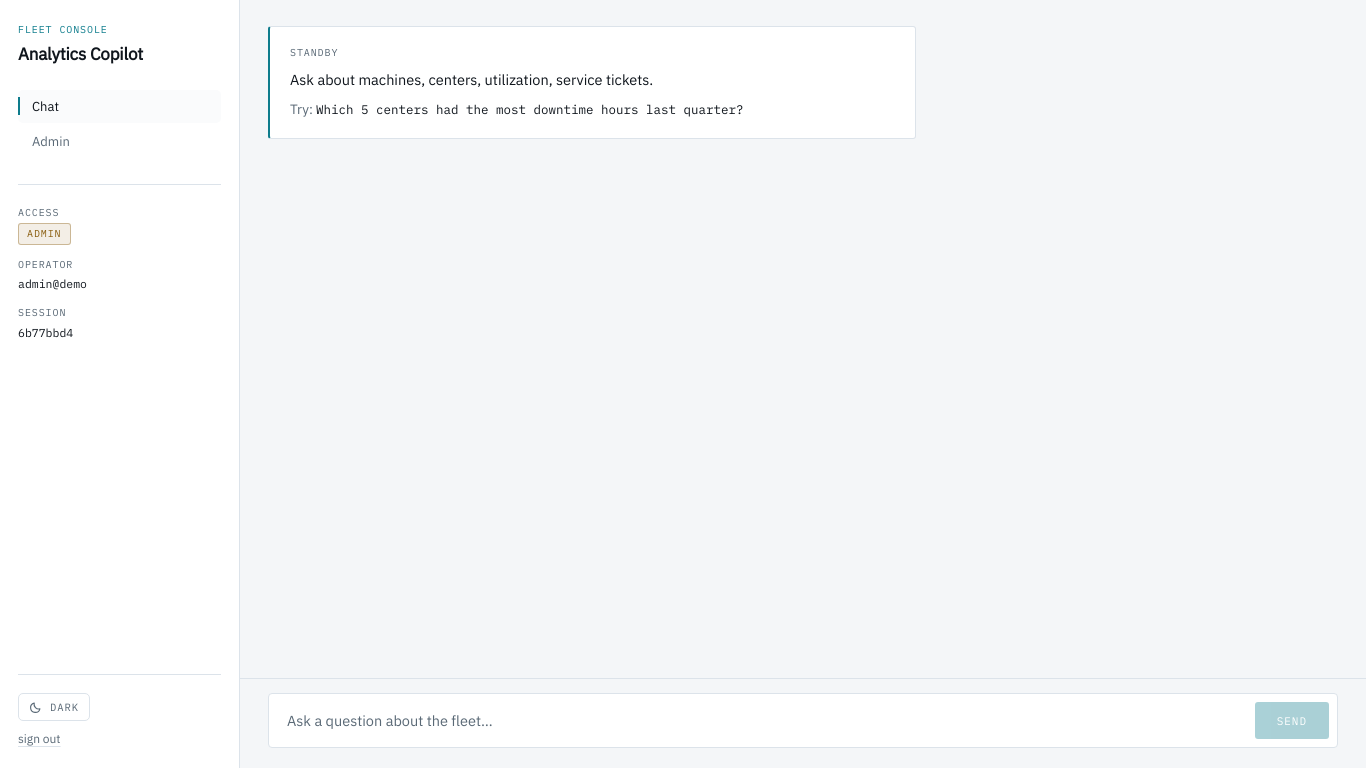
Scenario: switching back to Chat restores the chat view
The image size is (1366, 768).
Click the button "Admin": (120, 141) [18, 125, 221, 158]
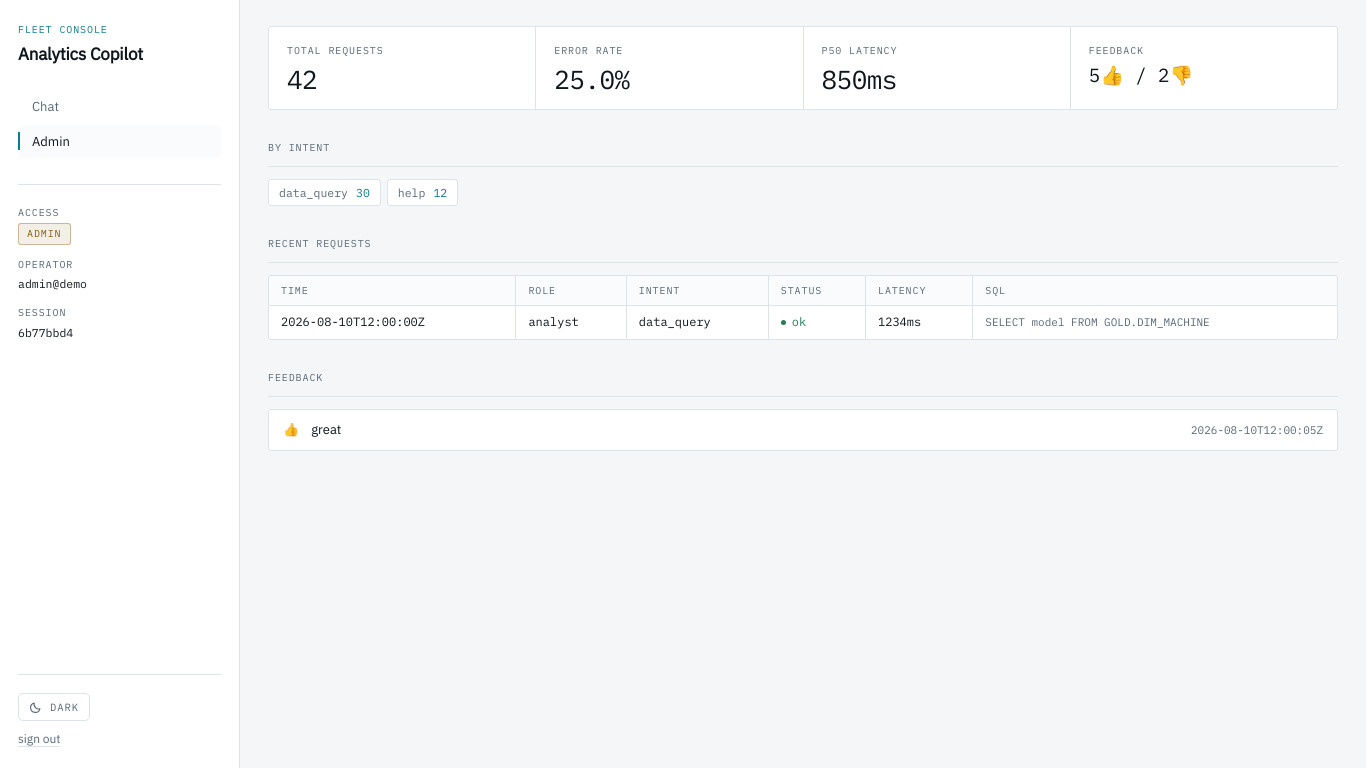
expect the text "42" is shown: met, box [287, 62, 317, 96]
Click the button "Chat": (120, 106) [18, 90, 221, 123]
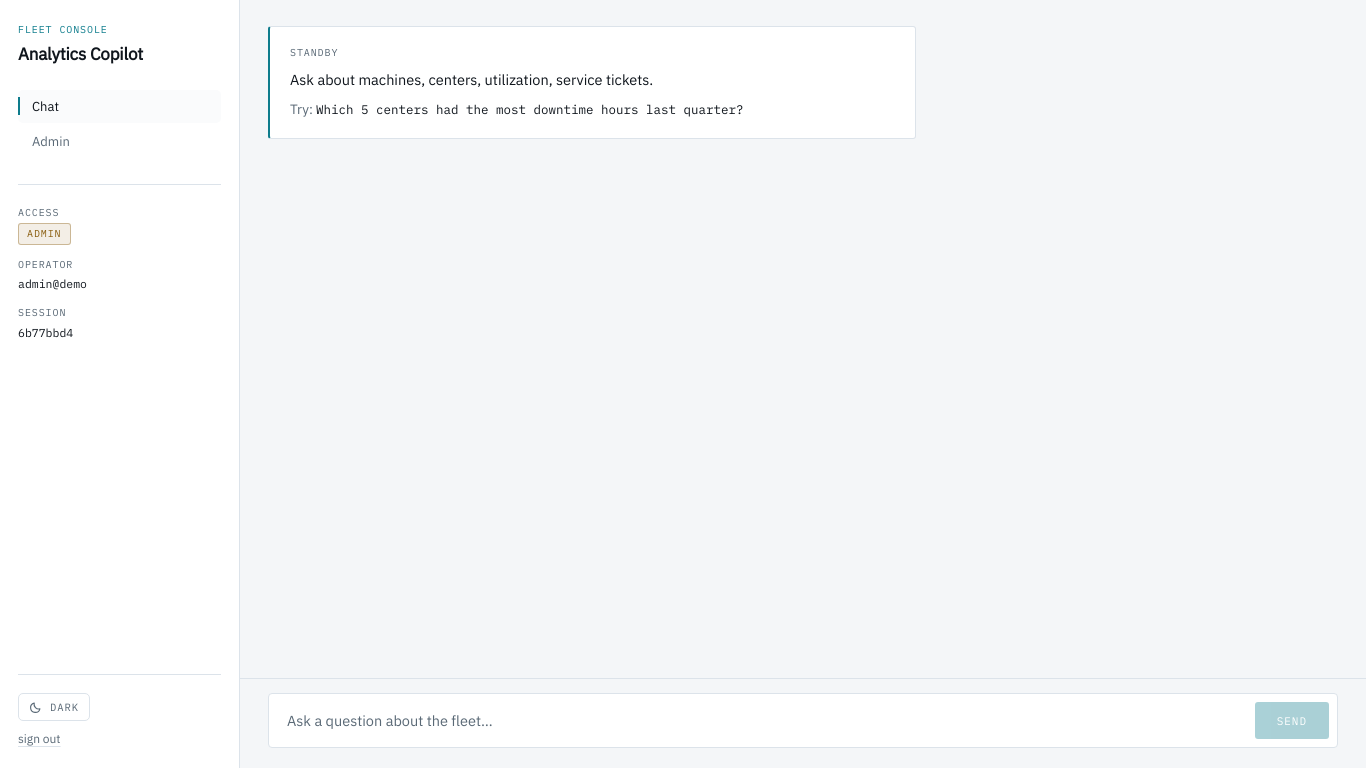
expect the field with placeholder "Ask a question about the fleet…" is shown: met, box [277, 702, 1245, 739]
